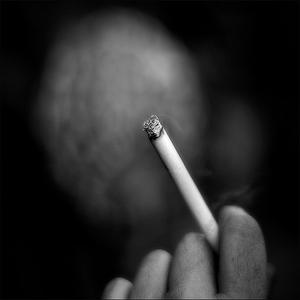cigarette: (146, 112, 224, 246)
